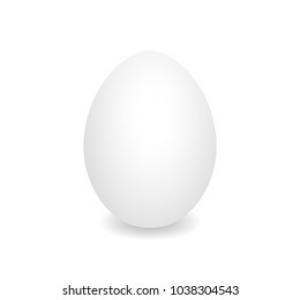Egg: (81, 46, 222, 236)
